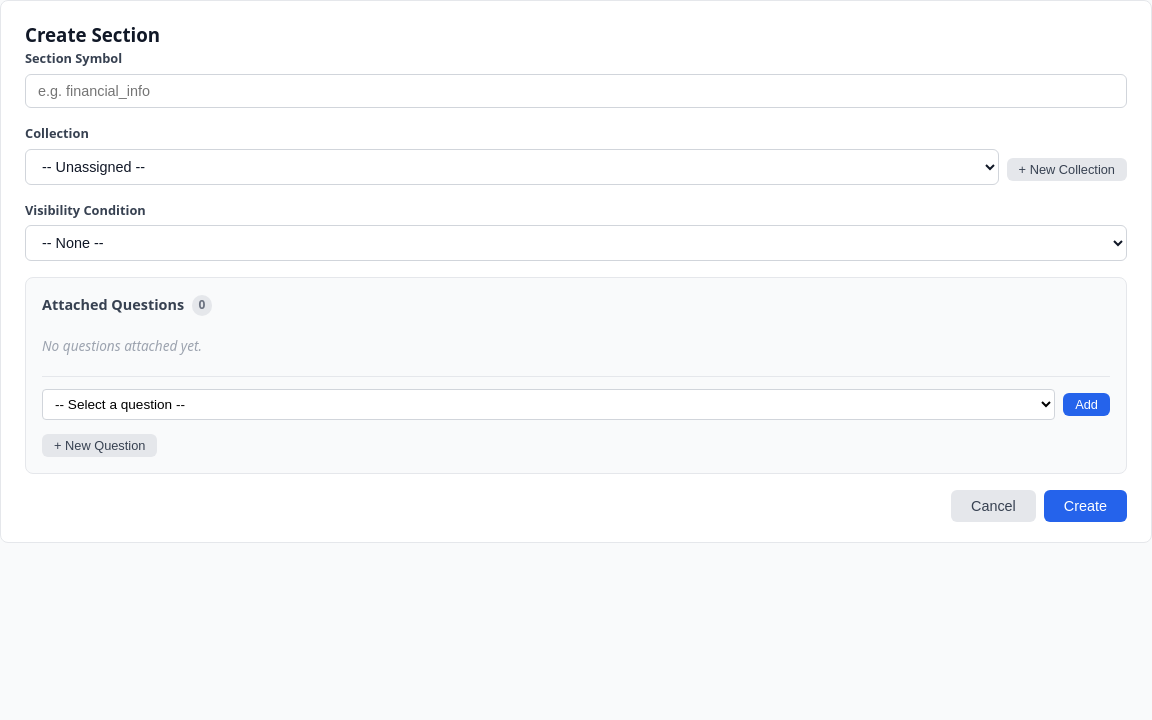
Test: SectionForm › given empty section_symbol › when submitted, then shows validation error
Click the button "Create": (1085, 506) [1044, 490, 1127, 522]
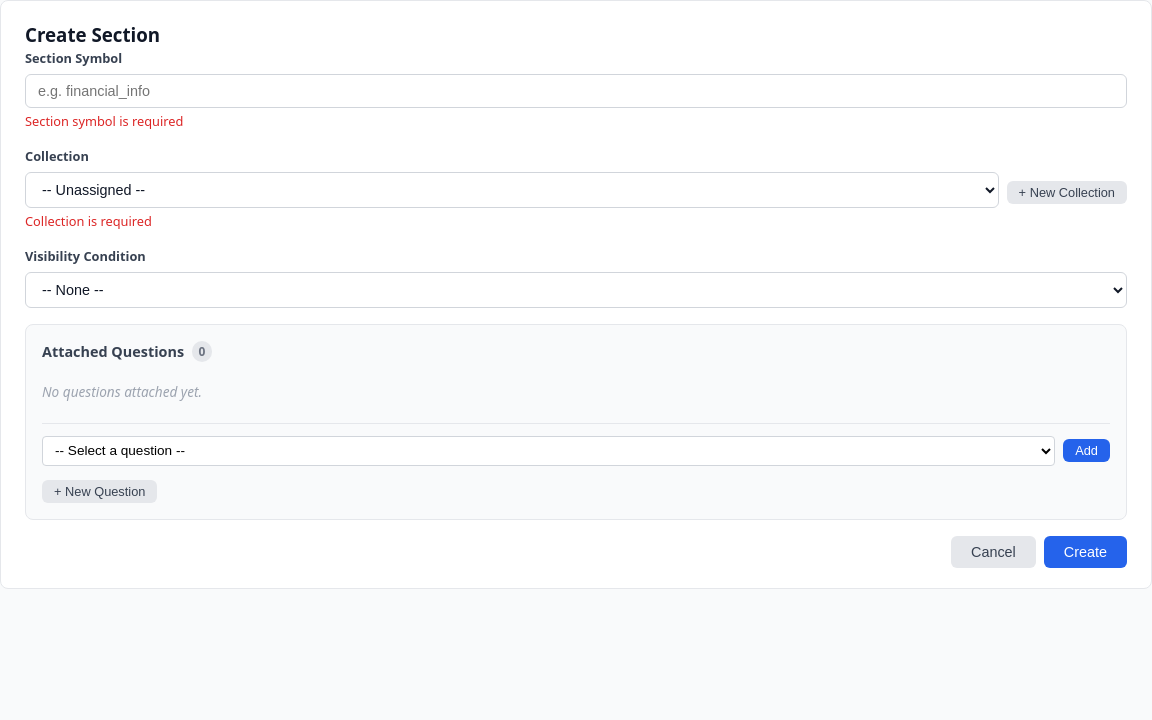
Expected: the text "Section symbol is required" is shown, [25, 112, 183, 130]
